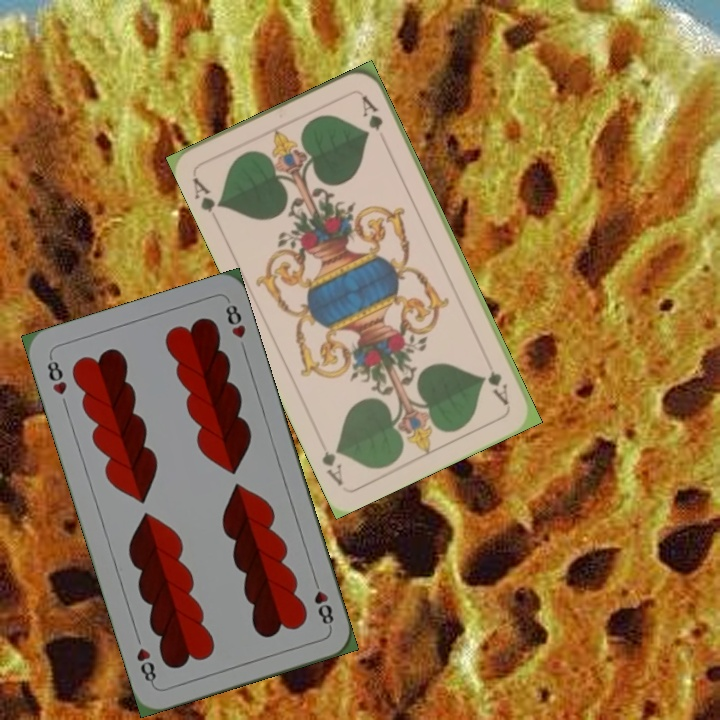GA: (189, 173, 226, 215), (483, 367, 512, 408)
H8: (309, 573, 337, 631), (43, 352, 70, 398)
